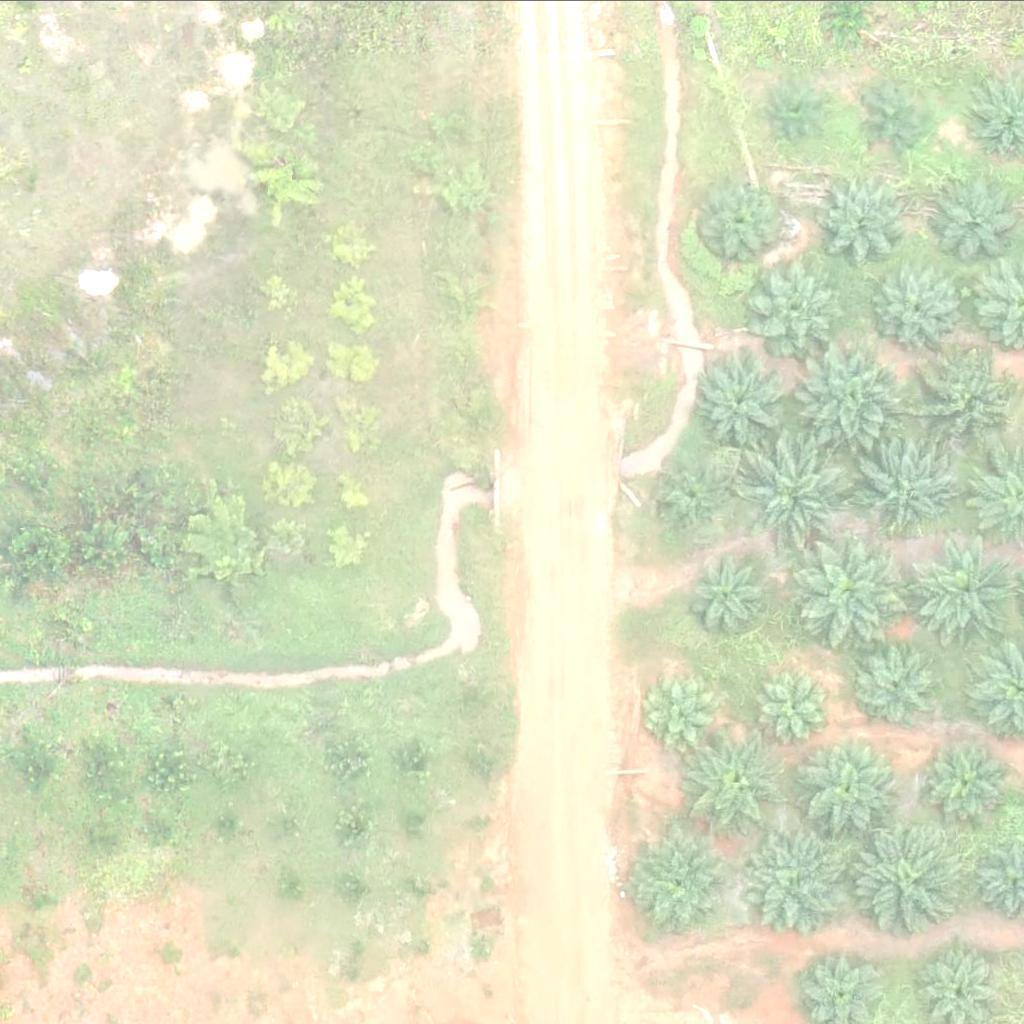Kelapa_Sawit: (726, 421, 851, 546), (743, 818, 857, 931), (850, 812, 964, 925), (790, 531, 903, 644), (909, 526, 1022, 639), (630, 830, 731, 930), (681, 732, 782, 832), (856, 431, 957, 531), (802, 343, 903, 443), (918, 351, 1019, 451), (801, 732, 901, 832), (700, 354, 788, 442), (686, 548, 775, 635), (639, 660, 727, 747), (754, 264, 842, 351), (879, 262, 967, 349), (821, 174, 909, 261), (934, 176, 1022, 263), (700, 181, 776, 256), (930, 744, 1006, 819), (863, 642, 939, 717), (756, 667, 831, 742), (866, 83, 929, 145), (663, 460, 726, 522), (776, 85, 826, 135)
